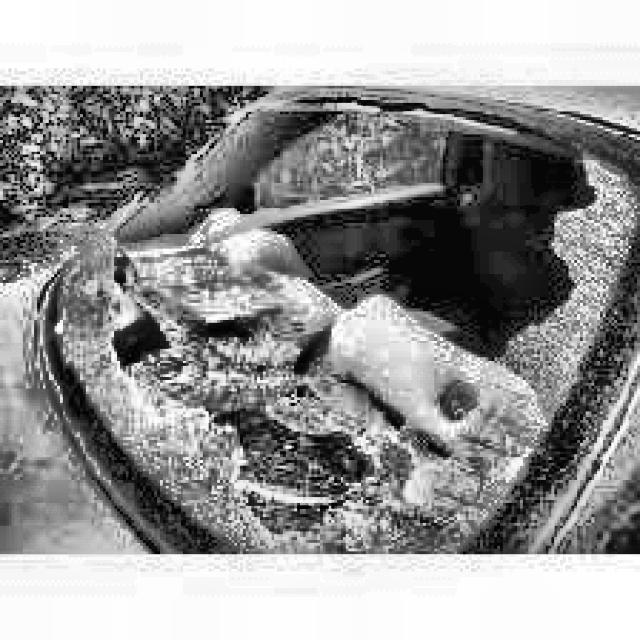glass_shatter: (356, 115, 615, 374), (60, 146, 216, 429), (222, 120, 340, 492)
